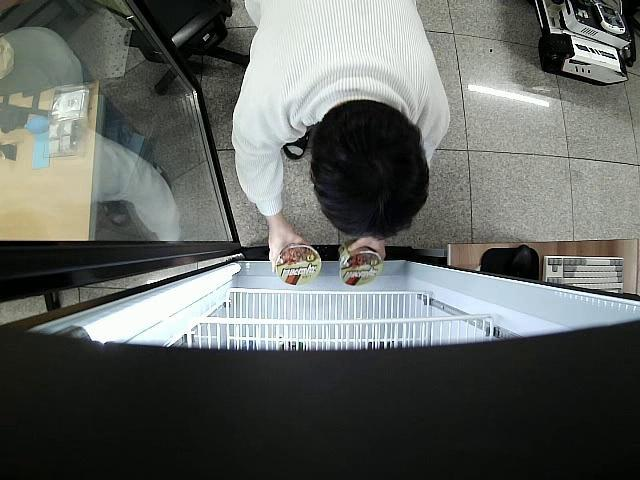03_chapagetti_L: (276, 244, 321, 288), (338, 240, 381, 285)
